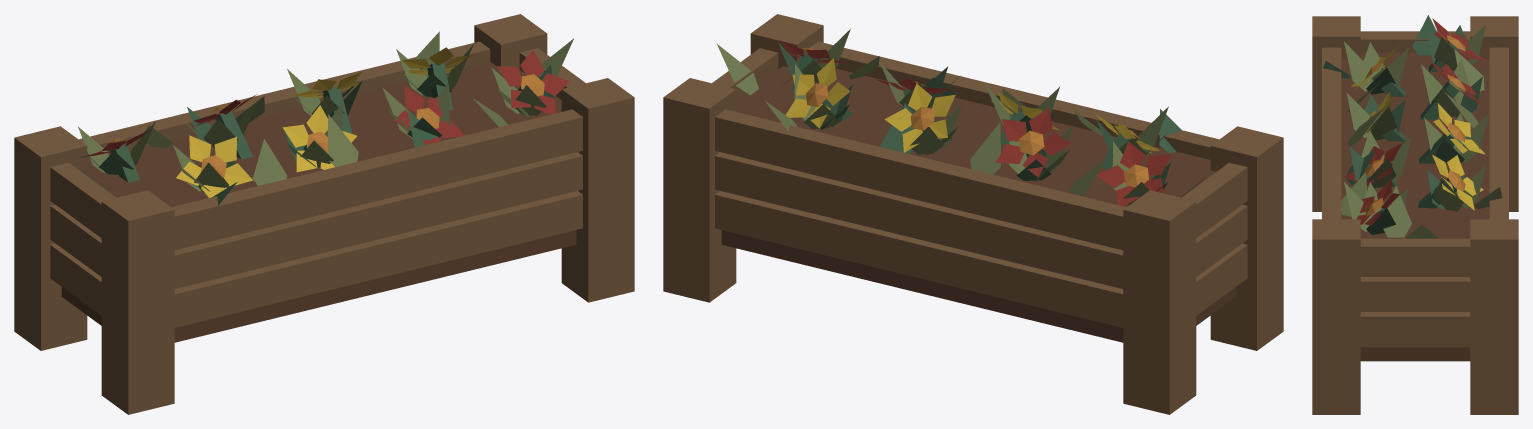
File: flower-planter-500ed2.glb
The picture shows the model from 3 angles, left to right: view 1: azimuth 30°, elevation 25°; view 2: azimuth 150°, elevation 25°; view 3: azimuth 270°, elevation 25°; orthographic projection. The views are drawn at different scales.
Parts seen in each view (by area): view 1: planter; view 2: planter; view 3: planter.
Part boxes in pixels (<box>): planter: <box>14,14,634,414</box>; planter: <box>663,14,1283,414</box>; planter: <box>1312,15,1518,414</box>.
Size of the model in its own units: 0.8203 by 0.3547 by 0.32.
